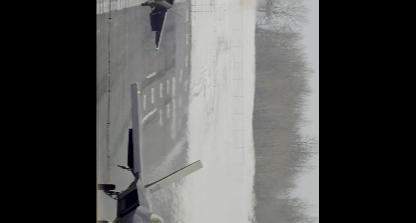F18: (96, 81, 204, 222), (141, 0, 189, 53), (259, 0, 288, 29)
